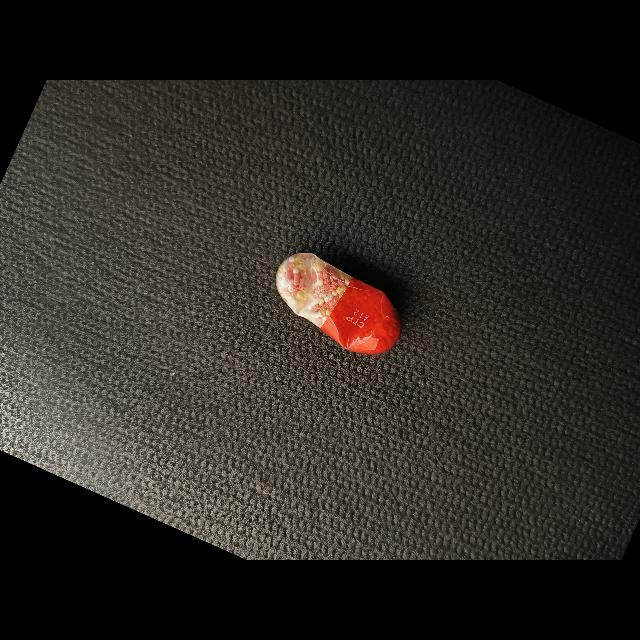Defective Capsule: (276, 253, 401, 354)
